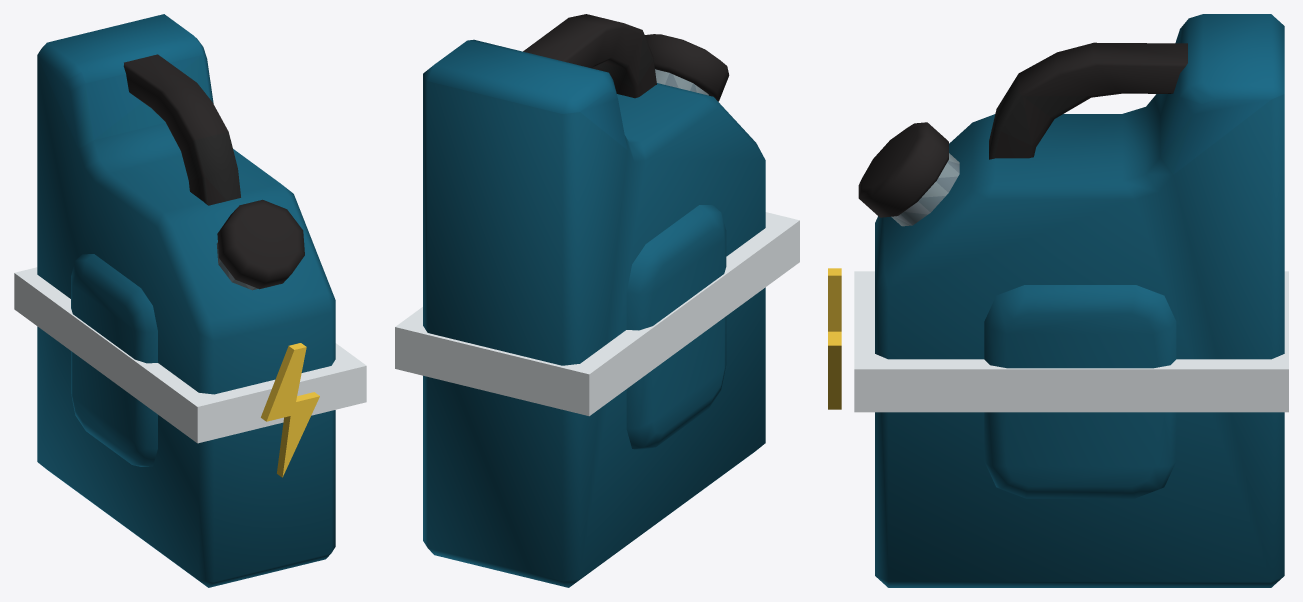
File: item_nos.glb
The picture shows the model from 3 angles, left to right: view 1: azimuth 30°, elevation 25°; view 2: azimuth 150°, elevation 25°; view 3: azimuth 270°, elevation 25°; orthographic projection. The views are drawn at different scales.
Visible parts, largest first — view 1: item_mesh; view 2: item_mesh; view 3: item_mesh.
Boxes of the visible parts, left/top/right/bottom form: item_mesh: left=14, top=14, right=366, bottom=587; item_mesh: left=395, top=14, right=799, bottom=587; item_mesh: left=828, top=14, right=1288, bottom=587.
Bounding box in the file's own units: 0.3401 × 0.82 × 0.6768.
Materials: 1 (1 with a texture image).
